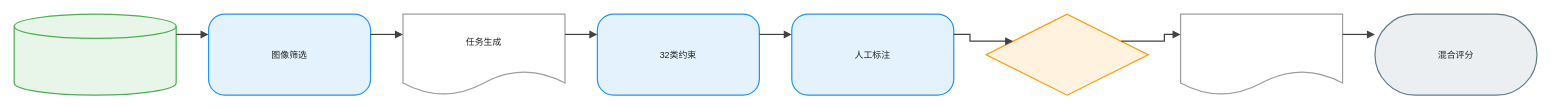
Image size: 1552x110. Some labels were removed from this diagram. The centre of each missing label's shape, as x and y in pixels:
"400道评测题" goes at [1261,54].
"冲突检查" goes at [1066,54].
"图像来源" goes at [94,54].
